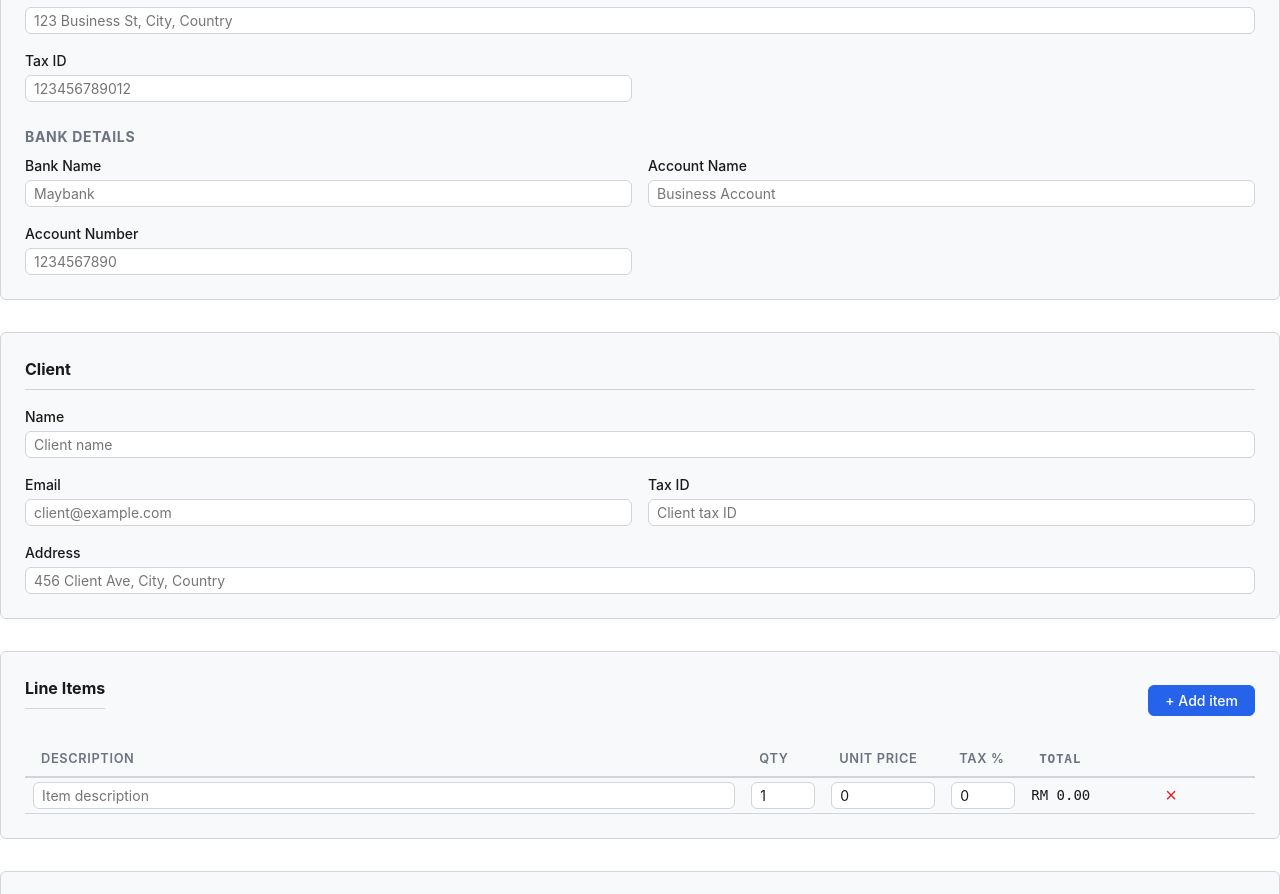
Test: Preview › renders the invoice and updates from form edits
This screenshot has width=1280, height=894.
(page scrolled)
Type "Acme Sdn Bhd" into the field labelled "Name".
click(640, 444); type("Acme Sdn Bhd")  # box [25,431,1255,458]
(page scrolled)
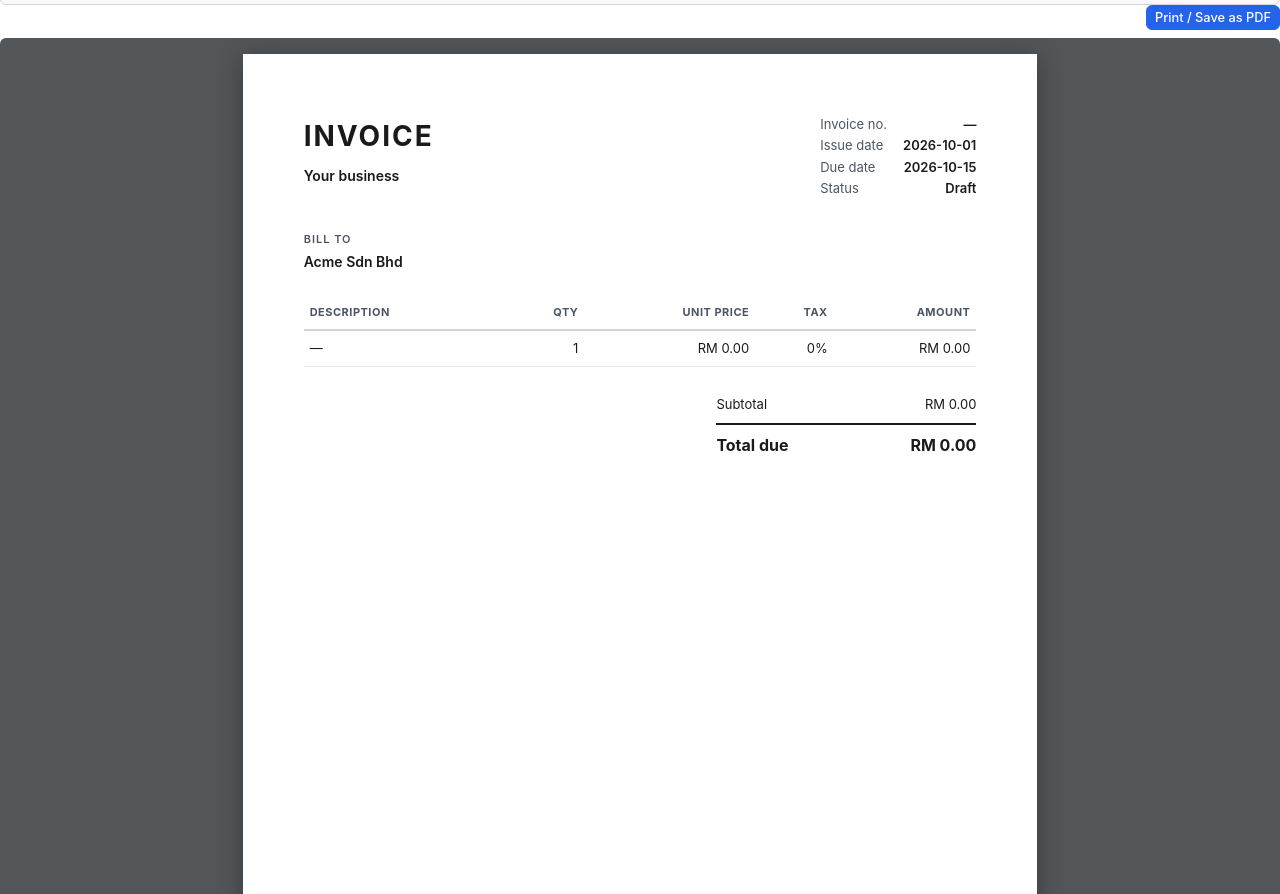
Expected: the text "Total due" is shown, [716,433,789,457]
Expected: the text "Acme Sdn Bhd" is shown, [304,253,403,270]
